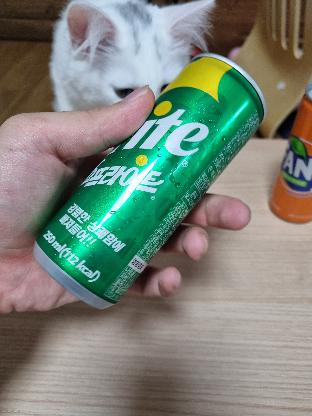Can: (30, 51, 266, 310), (268, 84, 312, 224)
